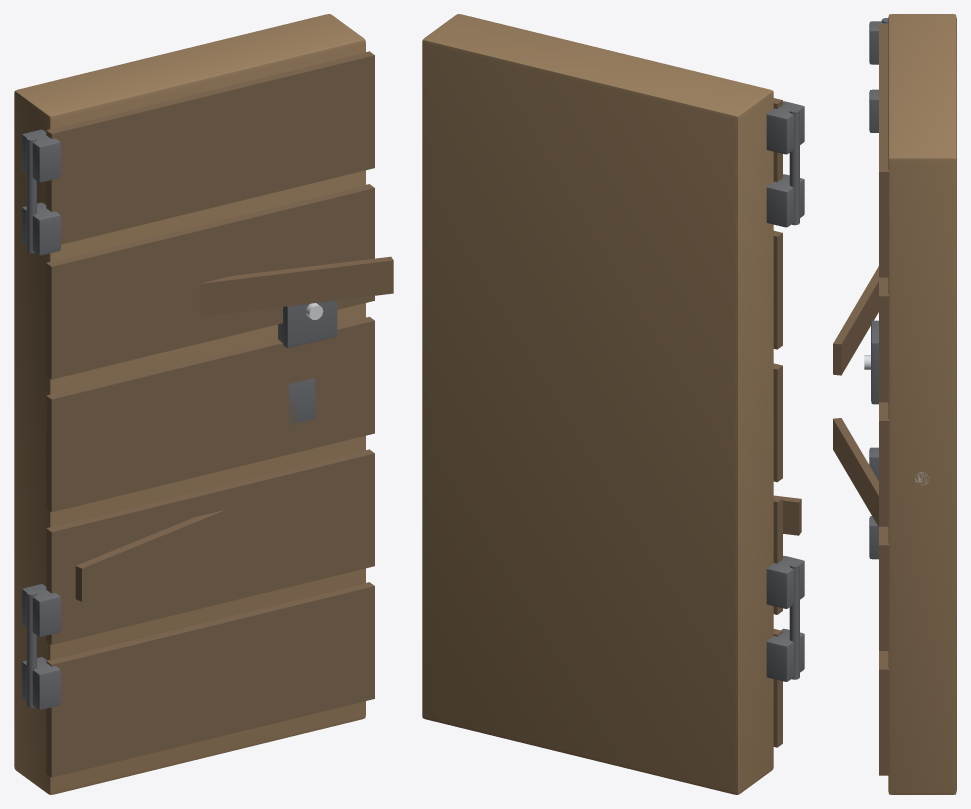
Rendered from DD_door_wood.fbx.
3 views of the same model, side by side, from view 1: azimuth 30°, elevation 25°; view 2: azimuth 150°, elevation 25°; view 3: azimuth 270°, elevation 25° (orthographic). The views are drawn at different scales.
Parts seen in each view (by area): view 1: DD_door_wood; view 2: DD_door_wood; view 3: DD_door_wood.
Part boxes in pixels (box(x1,y1,x2,y2)): DD_door_wood: box(14, 14, 393, 794); DD_door_wood: box(422, 14, 804, 794); DD_door_wood: box(833, 14, 956, 794).
Size of the model in its own units: 1.08 by 2.05 by 0.3605.
